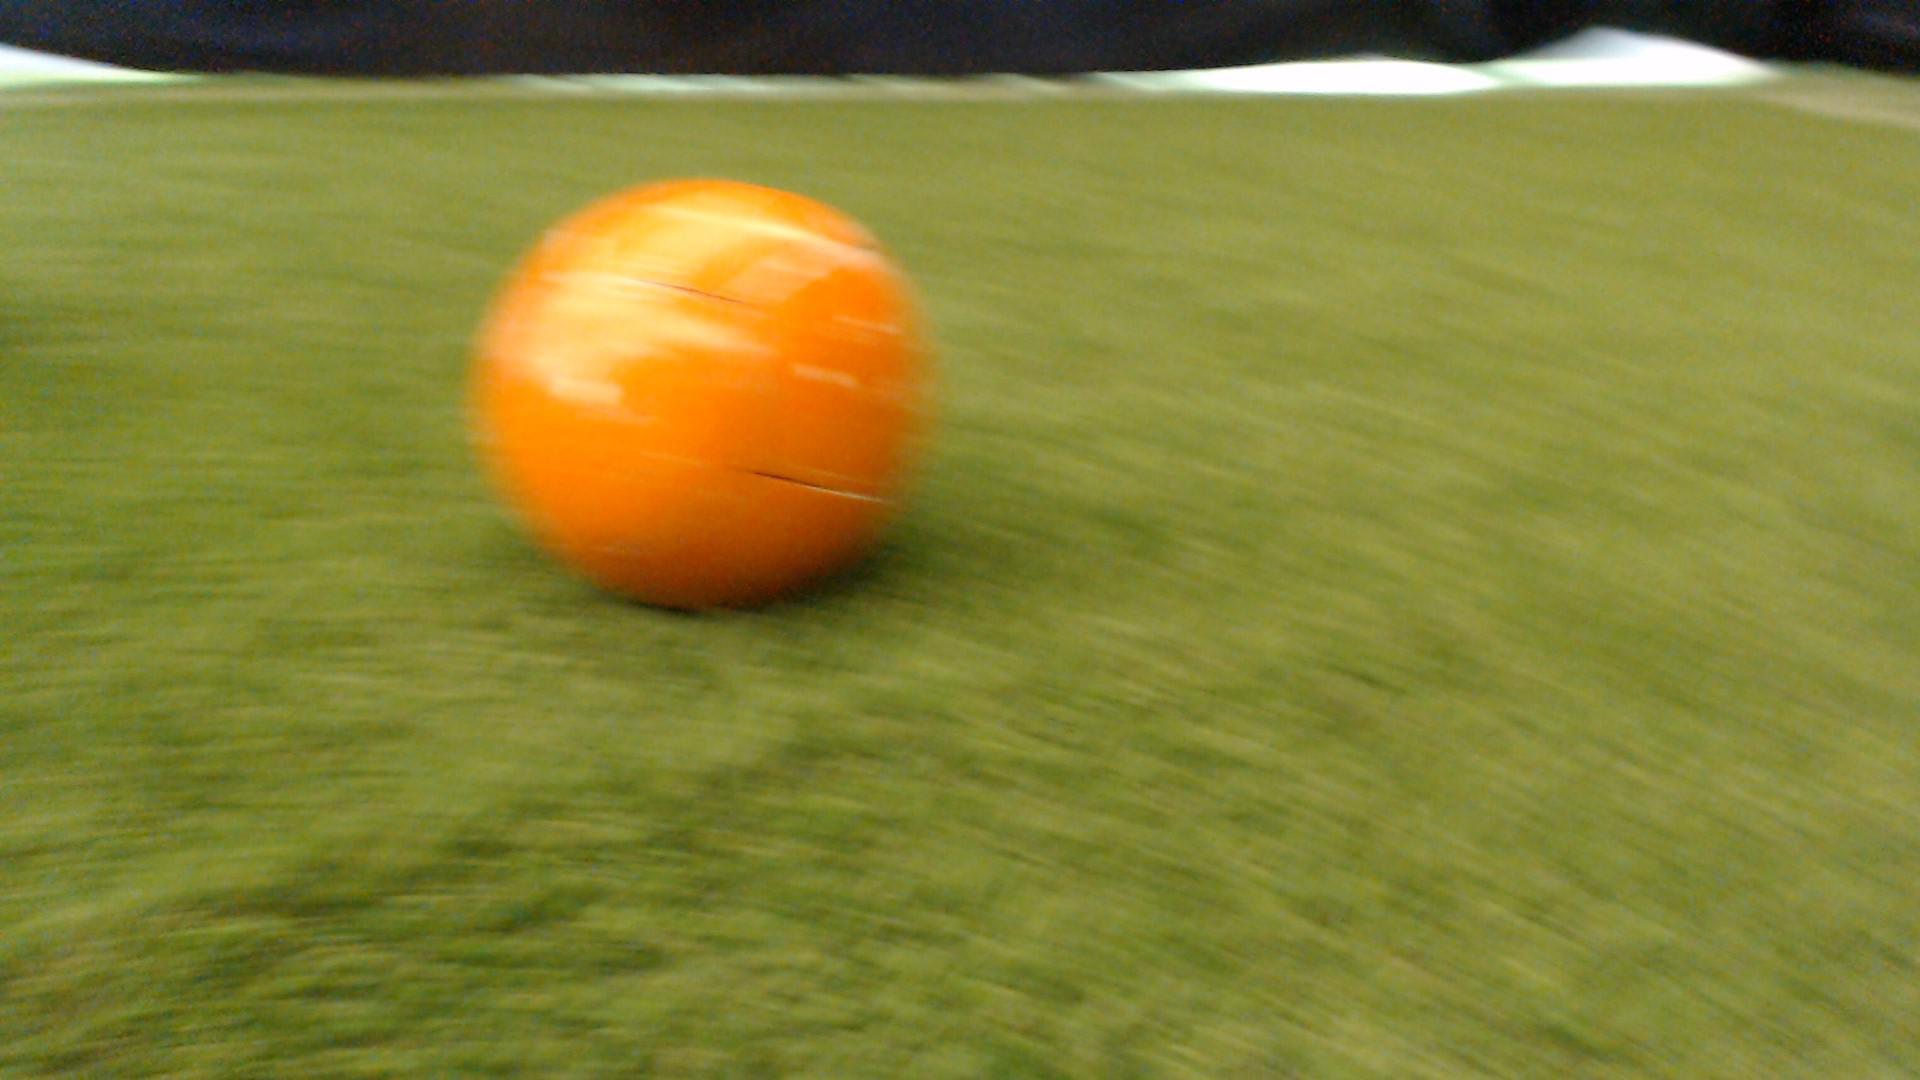bola: (431, 142, 967, 636)
